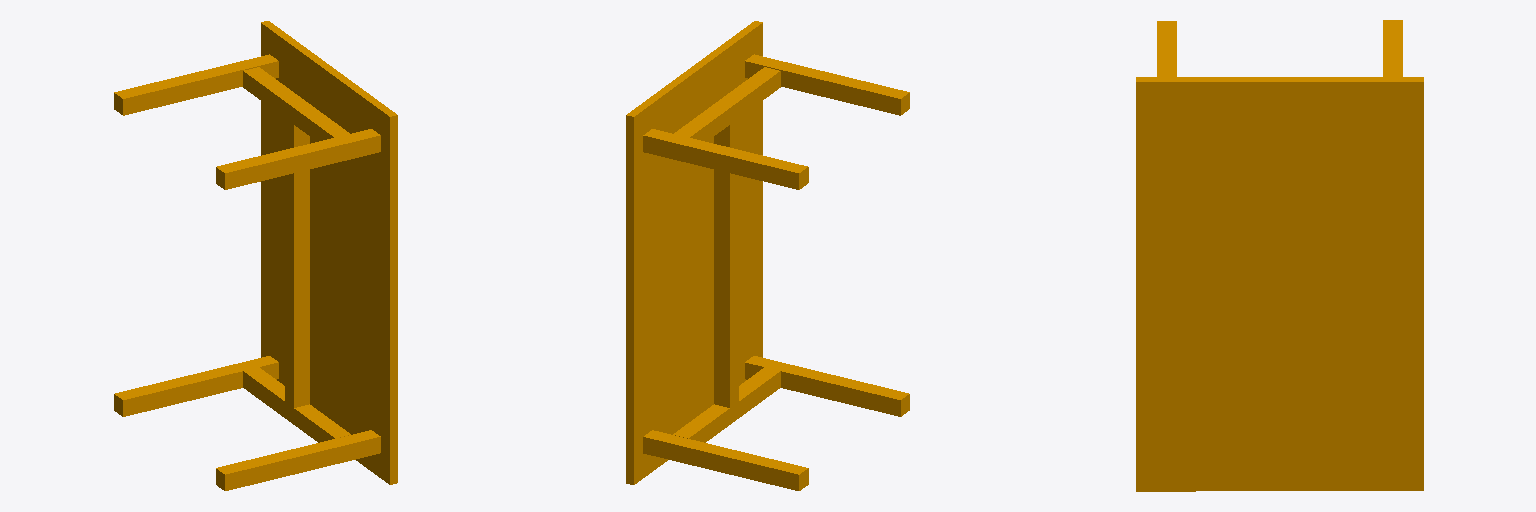
robot.urdf — none:
<robot name="none">
       <link name="none">
           <visual>
               <origin rpy="0 0 -1.57" xyz="0 0 0" />
               <geometry>
                   <mesh filename="table.obj"  scale="0.008 0.008 0.008"/>
               </geometry>
           </visual>
          <collision>
<origin rpy="1.57 0 0" xyz="0 0 0.25" />
              <geometry>
                  <box size=" 2.0 0.5 1.0" />
              </geometry>
          </collision>

          <inertial>
            <mass value="0.0" />
            <inertia ixx="0.05" ixy="0.0" ixz="0.0" iyy="0.05" iyz="0.0" izz="0.05"/>
          </inertial>
      </link>
  </robot>

--- Facts derived from the render (not from the file) ---
3 views of the same robot in one strip: view 1: azimuth 30°, elevation 25°; view 2: azimuth 150°, elevation 25°; view 3: azimuth 270°, elevation 25° (orthographic).
Model none with 1 links and 0 joints (none), rooted at none, posed all joints at 0.
Visible links, largest first — view 1: none; view 2: none; view 3: none.
Boxes of the visible links, left/top/right/bottom form: none: left=114, top=21, right=397, bottom=490; none: left=626, top=21, right=909, bottom=490; none: left=1136, top=20, right=1423, bottom=491.
Bounding box of the posed robot: 0.821 × 1.12 × 1.76 m (x, y, z).
Meshes: 1 distinct files referenced, 1 mesh visuals loaded (1 OBJ).